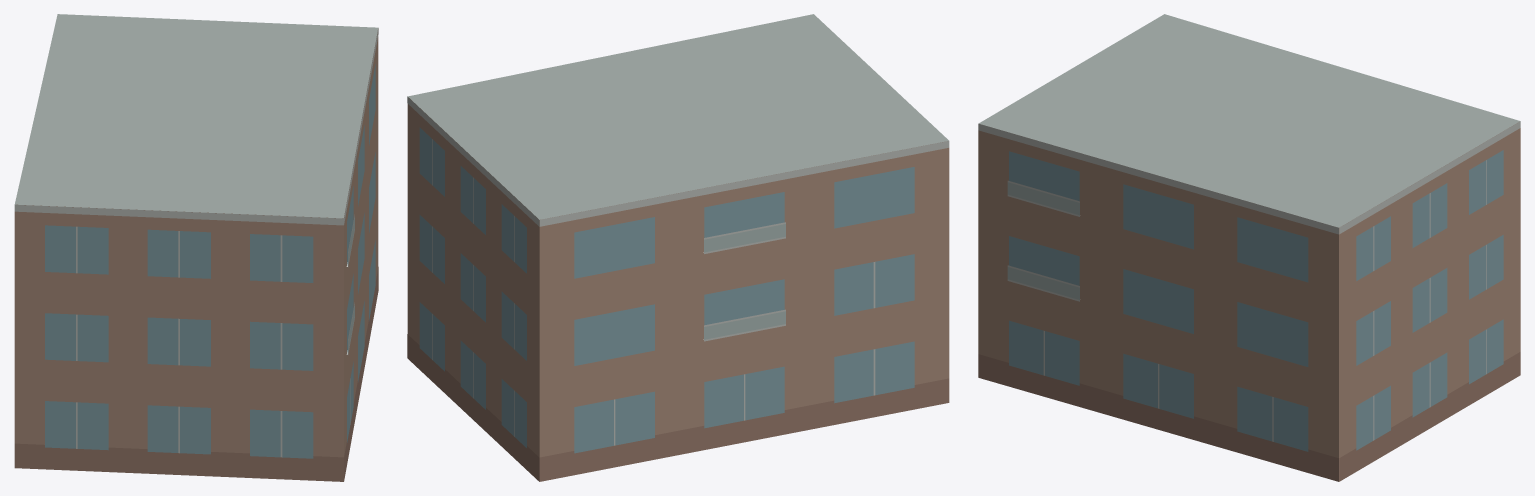
Rendered from survey-upis-32698004.glb.
3 views of the same model, side by side, from view 1: azimuth 30°, elevation 25°; view 2: azimuth 150°, elevation 25°; view 3: azimuth 270°, elevation 25° (orthographic). The views are drawn at different scales.
Visible parts, largest first — view 1: survey-upis-32698004.tmp; view 2: survey-upis-32698004.tmp; view 3: survey-upis-32698004.tmp.
Part boxes in pixels (x1,y1,x2,y2): survey-upis-32698004.tmp: [14, 14, 378, 481]; survey-upis-32698004.tmp: [407, 14, 949, 481]; survey-upis-32698004.tmp: [978, 14, 1520, 481].
Size of the model in its own units: 16.52 by 9.15 by 17.7.
